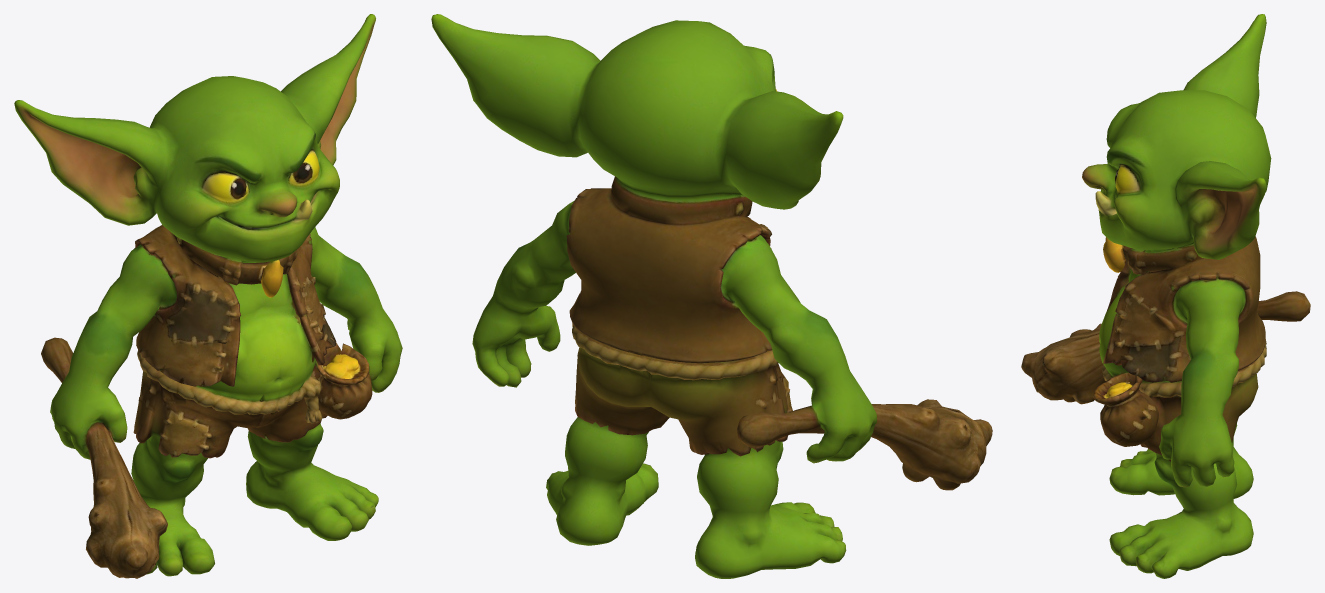
Rendered from Goblin.glb.
3 renders of one model, left to right at view 1: azimuth 30°, elevation 25°; view 2: azimuth 150°, elevation 25°; view 3: azimuth 270°, elevation 25°, orthographic. The views are drawn at different scales.
Parts seen in each view (by area): view 1: tripo_node_e8497c3a-ac26-4a67-bb46-ad931bc29982; view 2: tripo_node_e8497c3a-ac26-4a67-bb46-ad931bc29982; view 3: tripo_node_e8497c3a-ac26-4a67-bb46-ad931bc29982.
Part boxes in pixels (x1,y1,x2,y2): tripo_node_e8497c3a-ac26-4a67-bb46-ad931bc29982: (14, 14, 402, 578); tripo_node_e8497c3a-ac26-4a67-bb46-ad931bc29982: (431, 14, 992, 578); tripo_node_e8497c3a-ac26-4a67-bb46-ad931bc29982: (1021, 14, 1310, 578).
Bounding box in the file's own units: 0.8778 × 0.9773 × 0.6024.
Materials: 1 (1 with a texture image).
